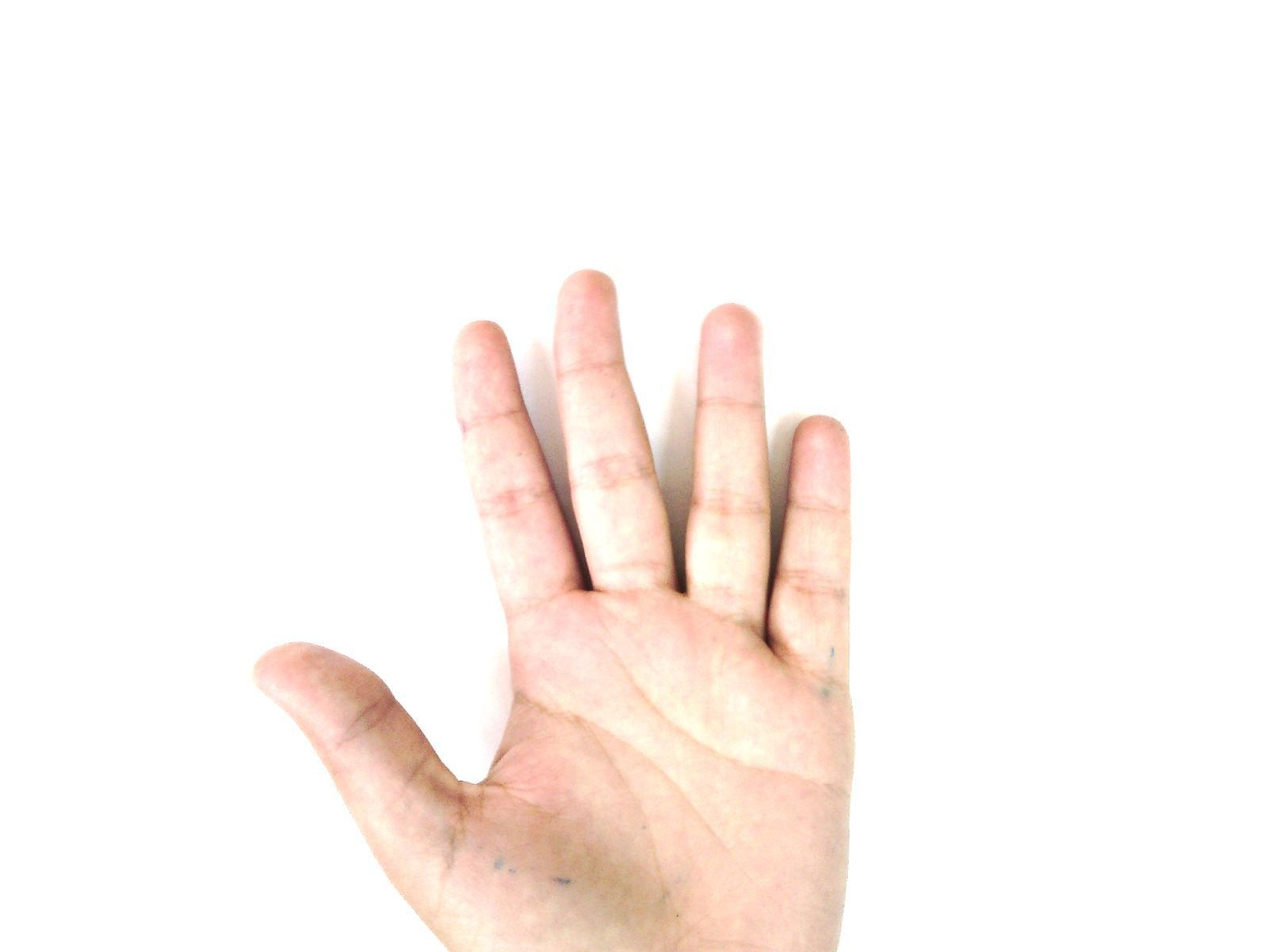open_palm: (252, 268, 860, 951)
